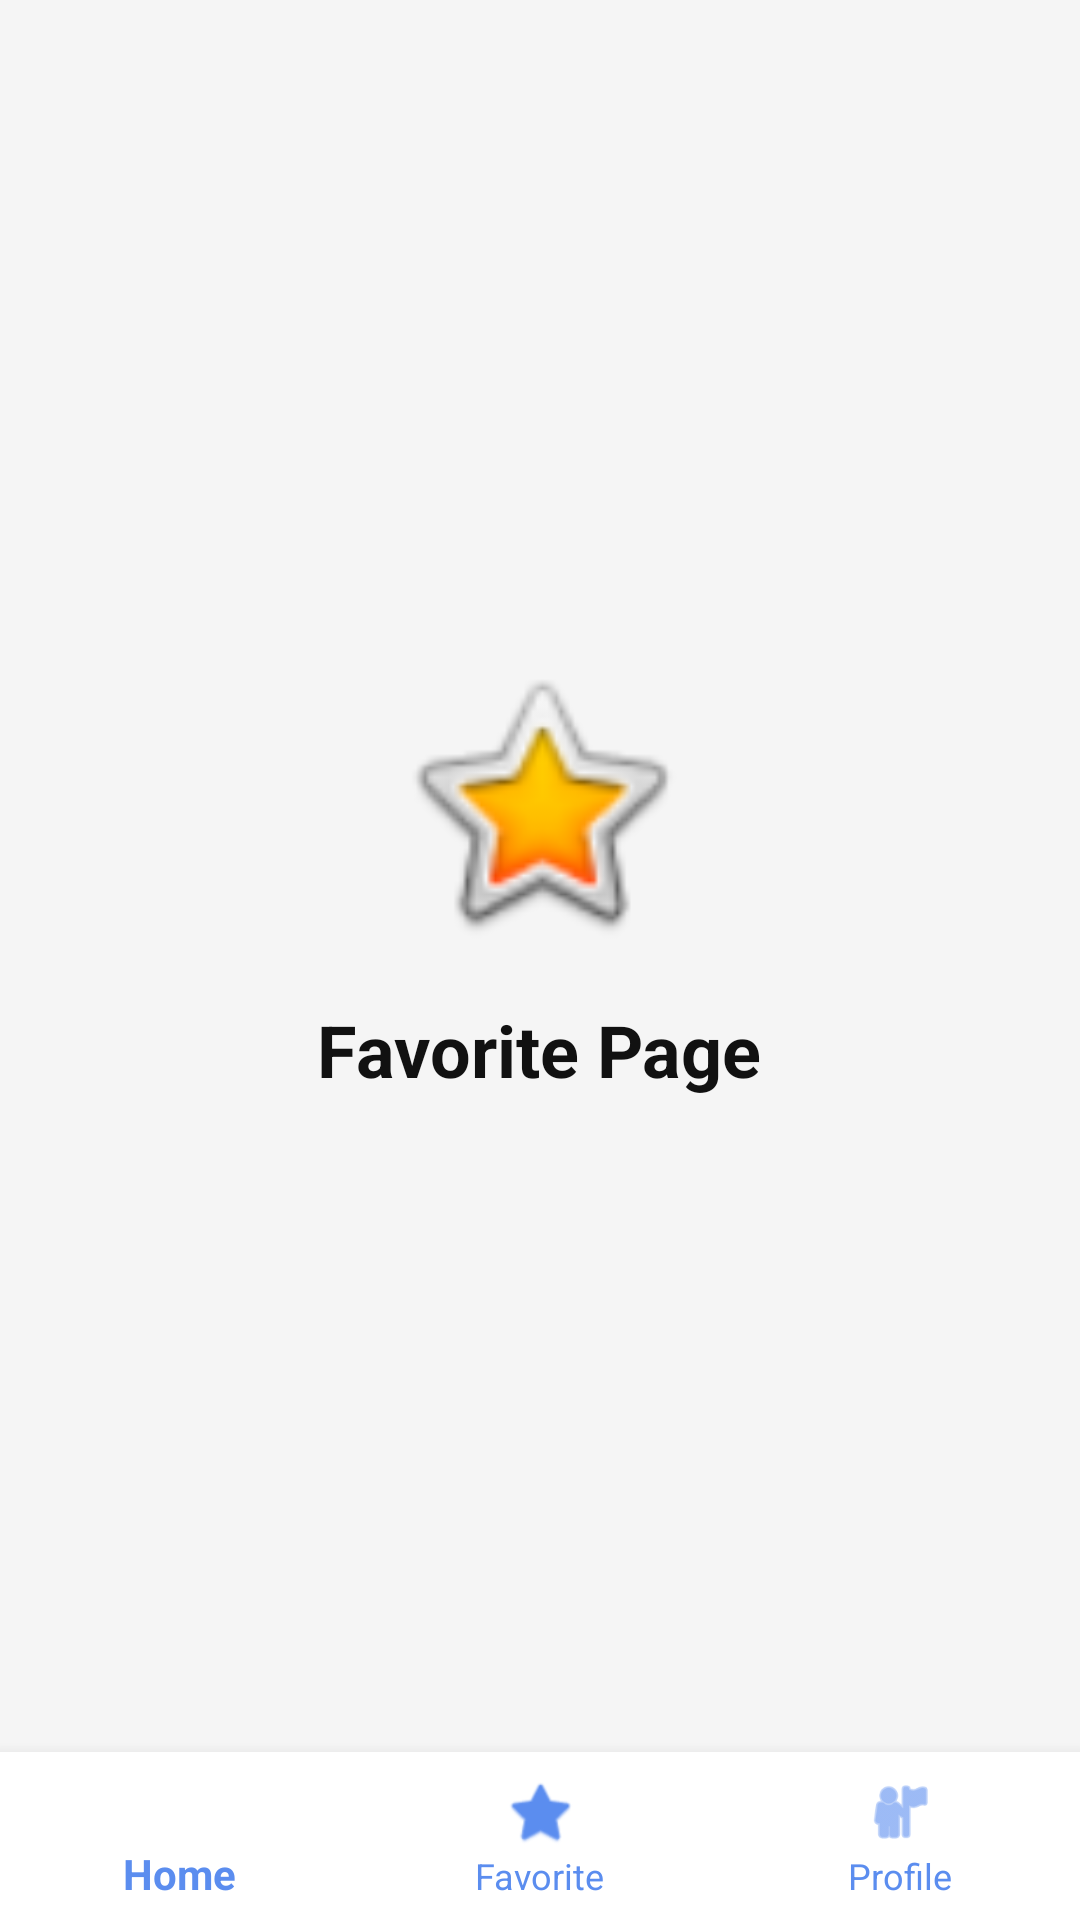

Screen size 1080×1920. Icon name, then its center in pixels as point (x, y):
star on: point (542, 805)
